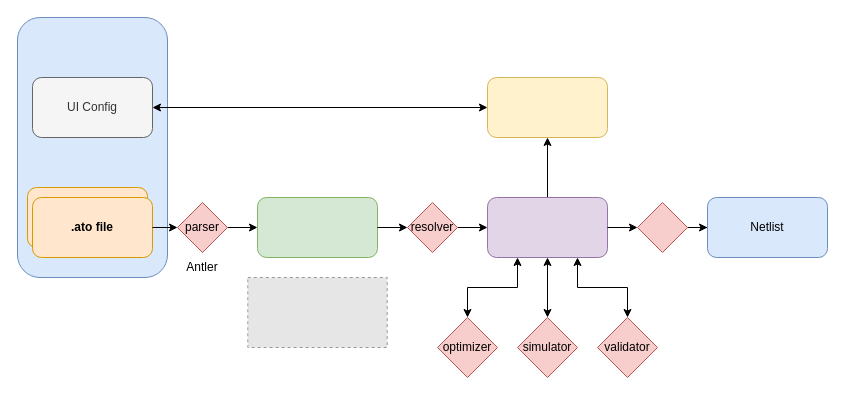
The diagram is 845 pixels wide and 395 high, and some of its shapes have lost their labels. Grey dashed boxes stand in for pictures. The box of each missing label's shape, as (x1, y1, x2, y2) in pixels:
Model: (486, 196, 608, 258)
netlist generator: (636, 202, 688, 252)
Parse tree: (256, 196, 378, 258)
Project Directory: (16, 16, 168, 278)
Viewer: (486, 76, 608, 138)
